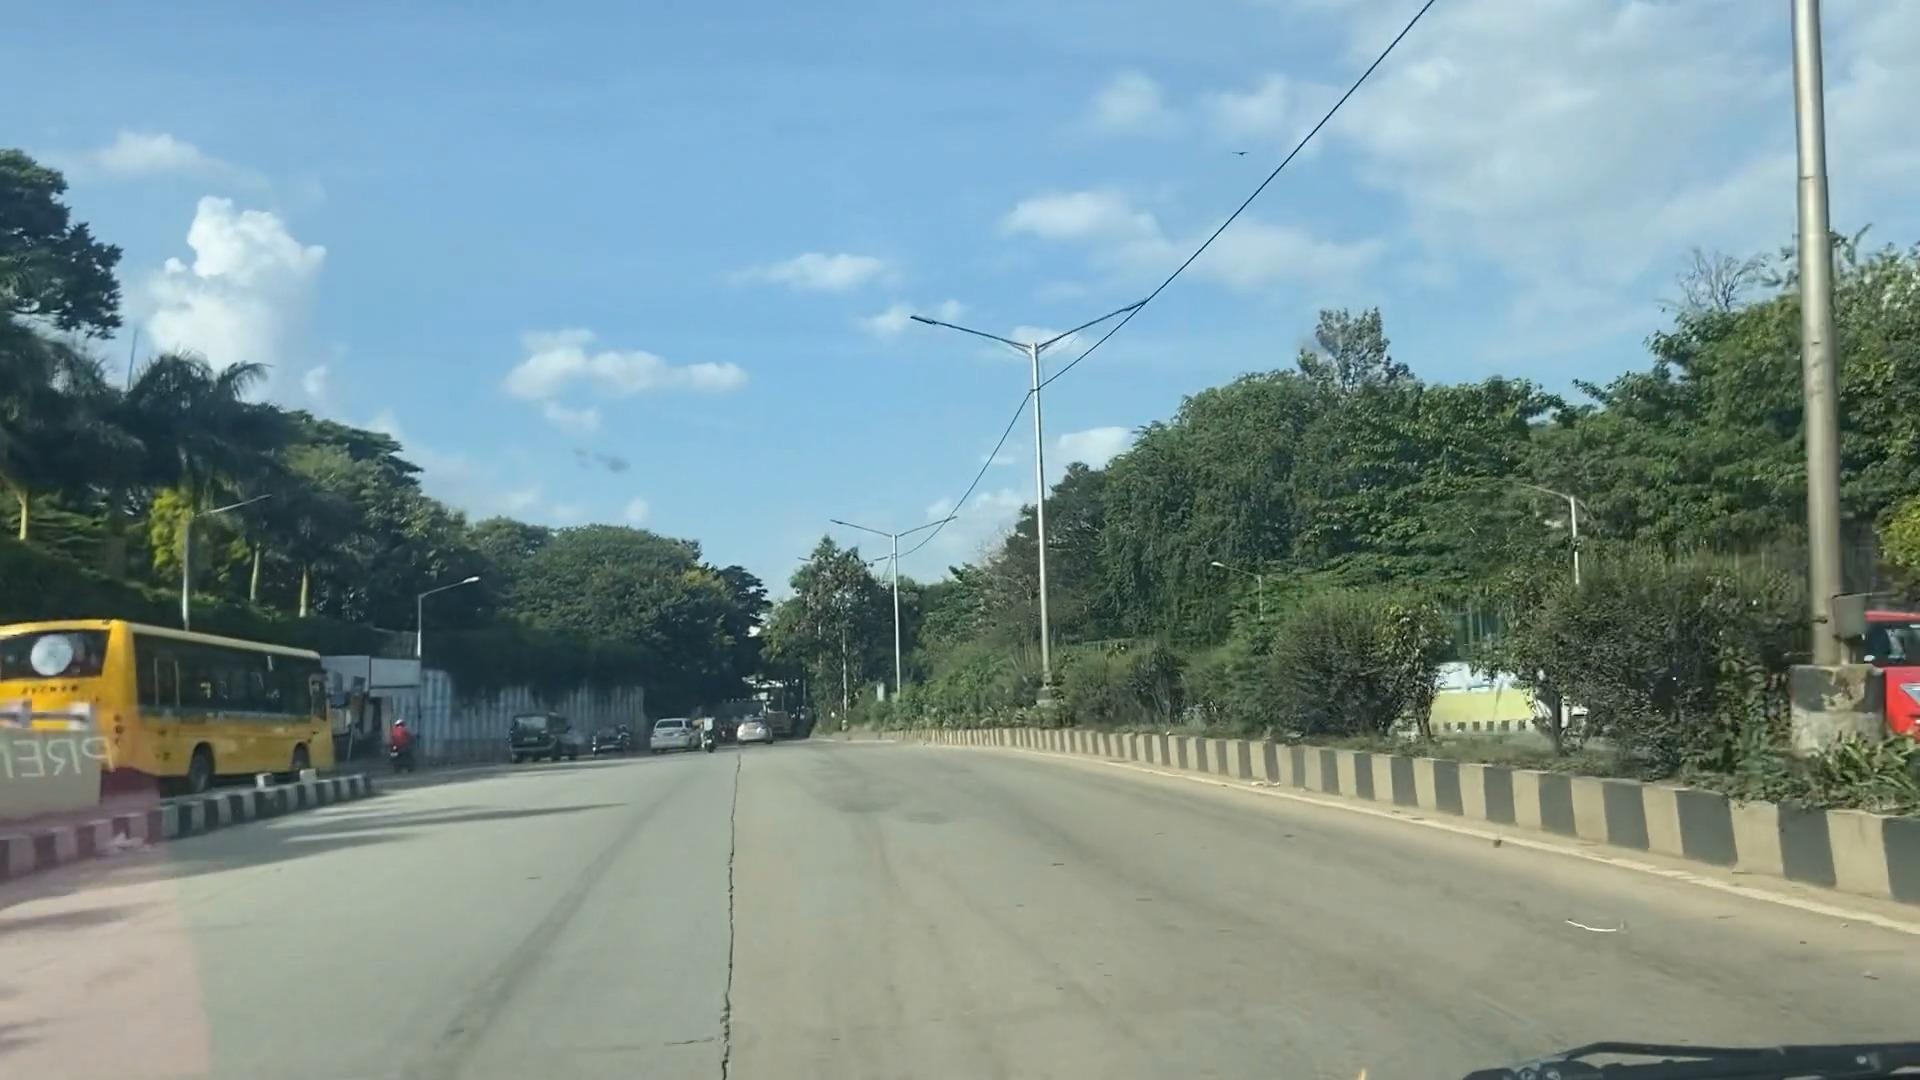RoadDamages: (629, 912, 803, 1073), (675, 775, 778, 901)
